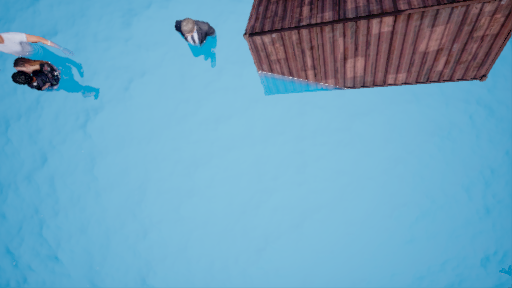person: (3, 29, 96, 105), (177, 15, 218, 57)
